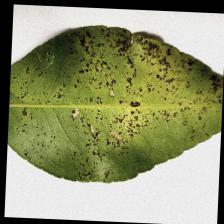canker: (62, 29, 186, 142)
